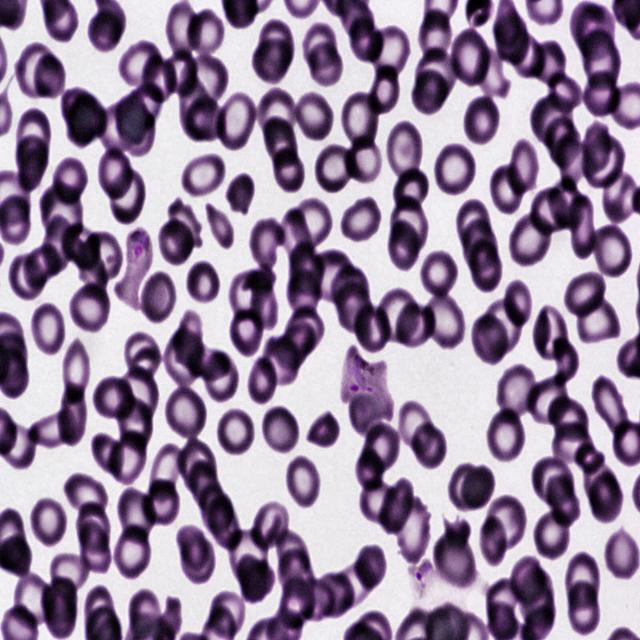red blood cell: (432, 522, 478, 592), (38, 182, 86, 248), (376, 286, 424, 348), (163, 381, 210, 443), (419, 288, 466, 350), (214, 88, 258, 153), (448, 27, 493, 89), (494, 364, 542, 422), (432, 140, 478, 200), (591, 375, 632, 441), (508, 212, 554, 270), (393, 490, 429, 564), (366, 23, 412, 80), (384, 119, 424, 184), (162, 328, 205, 388), (589, 222, 633, 280), (178, 54, 230, 103), (106, 165, 146, 228), (574, 293, 621, 346), (340, 90, 380, 152), (117, 486, 162, 541), (582, 132, 626, 188), (530, 90, 574, 146), (386, 195, 429, 252), (315, 142, 359, 197), (96, 142, 137, 201), (69, 278, 111, 335), (246, 212, 288, 269), (248, 500, 292, 554), (416, 46, 459, 101), (90, 374, 138, 423), (529, 375, 571, 431), (184, 5, 226, 61), (482, 297, 524, 353), (198, 347, 242, 400), (358, 420, 401, 474), (533, 504, 573, 562), (283, 453, 323, 511), (292, 88, 334, 143), (14, 43, 56, 98), (227, 530, 269, 585), (180, 151, 227, 200), (309, 250, 354, 301), (486, 407, 526, 464), (486, 493, 526, 550), (137, 268, 177, 325), (178, 76, 213, 141), (582, 29, 619, 90), (228, 266, 269, 321), (530, 302, 570, 358), (113, 520, 153, 576), (67, 91, 107, 147), (290, 196, 334, 246), (98, 101, 138, 156), (122, 332, 164, 384), (489, 159, 528, 215), (341, 194, 382, 247), (463, 91, 501, 148), (582, 67, 622, 121), (108, 432, 148, 486), (332, 561, 376, 610), (204, 590, 247, 640), (117, 370, 160, 420), (216, 405, 255, 460), (29, 301, 68, 356), (415, 6, 454, 61), (520, 567, 555, 628), (565, 552, 601, 611), (48, 156, 88, 209), (207, 492, 244, 549), (547, 393, 590, 442), (29, 494, 68, 548), (564, 270, 606, 320), (532, 453, 574, 503), (420, 249, 461, 300), (262, 402, 300, 457), (470, 312, 508, 367), (148, 443, 183, 502), (119, 39, 162, 87), (600, 170, 638, 224), (259, 336, 300, 386), (179, 439, 216, 494), (577, 5, 614, 60), (380, 479, 415, 537), (398, 398, 434, 454), (462, 217, 498, 273), (334, 279, 370, 335), (365, 62, 401, 118), (14, 574, 50, 630), (83, 231, 121, 284), (280, 574, 316, 629), (64, 474, 107, 520), (15, 109, 50, 165), (114, 398, 153, 448), (42, 215, 75, 274), (74, 499, 110, 553), (493, 11, 529, 65), (331, 262, 369, 313), (7, 254, 48, 301), (285, 308, 326, 355), (28, 410, 76, 450), (166, 2, 202, 55), (280, 208, 314, 264), (142, 480, 180, 530), (544, 117, 582, 167), (168, 198, 203, 252), (506, 140, 538, 199), (42, 575, 79, 626), (262, 116, 298, 168), (156, 217, 194, 266), (185, 258, 222, 308), (567, 579, 600, 635), (182, 96, 223, 141), (583, 460, 619, 511), (570, 195, 598, 260), (558, 134, 591, 189), (550, 423, 594, 464), (589, 471, 623, 524), (568, 1, 604, 51), (316, 573, 356, 618), (252, 38, 292, 83), (390, 168, 429, 214), (532, 186, 571, 232), (62, 223, 101, 269), (277, 323, 315, 370), (140, 56, 178, 103), (275, 529, 310, 580), (301, 22, 338, 70), (181, 535, 215, 587), (528, 40, 568, 84), (358, 482, 398, 526), (57, 381, 84, 446), (119, 104, 154, 154), (354, 304, 389, 354), (476, 48, 511, 98), (200, 480, 233, 533), (508, 556, 546, 602), (548, 178, 582, 229), (546, 474, 580, 525), (258, 19, 294, 67), (126, 84, 164, 129), (227, 310, 264, 356), (486, 576, 520, 626), (280, 548, 314, 598), (606, 528, 639, 579), (255, 89, 296, 130), (456, 202, 491, 250), (250, 275, 280, 331), (80, 522, 111, 576), (288, 246, 322, 295), (239, 557, 276, 602), (345, 136, 382, 181), (62, 340, 89, 401), (411, 69, 446, 116), (349, 18, 384, 65), (411, 422, 446, 469), (471, 239, 502, 292), (172, 313, 203, 366), (395, 304, 434, 346), (288, 269, 322, 317), (49, 554, 93, 591), (510, 35, 546, 80), (23, 243, 59, 288), (162, 50, 198, 95), (448, 467, 486, 509), (176, 523, 209, 571), (389, 220, 420, 271), (91, 432, 125, 478), (192, 460, 222, 511), (116, 92, 146, 143), (274, 147, 307, 193), (549, 70, 585, 112), (299, 578, 333, 622), (584, 120, 612, 173), (462, 462, 494, 508), (34, 52, 66, 98), (355, 546, 387, 592), (15, 134, 48, 178), (247, 356, 277, 404), (206, 202, 235, 251), (480, 517, 508, 566), (305, 412, 342, 449), (47, 593, 77, 638), (504, 279, 532, 327), (309, 43, 341, 85), (60, 87, 94, 126), (226, 168, 254, 214), (88, 10, 120, 50), (19, 148, 45, 194), (356, 449, 384, 490)
trophozoite: (341, 346, 395, 426), (116, 228, 154, 311)
